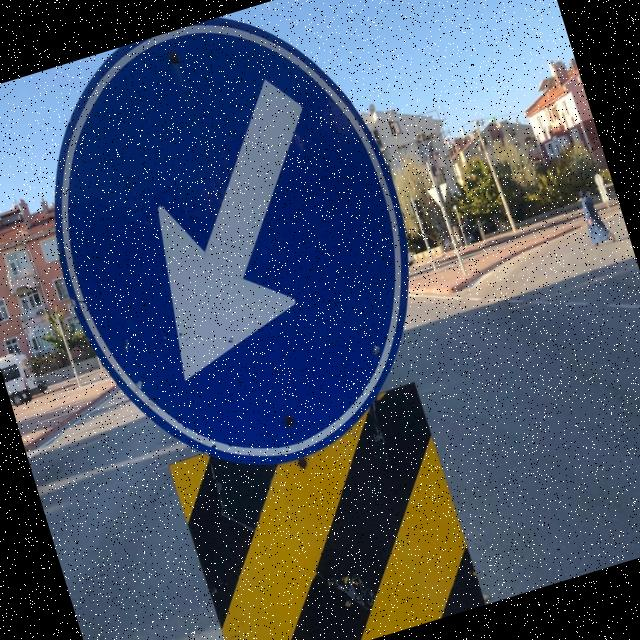compulsory_keep_right: (0, 0, 466, 515)
